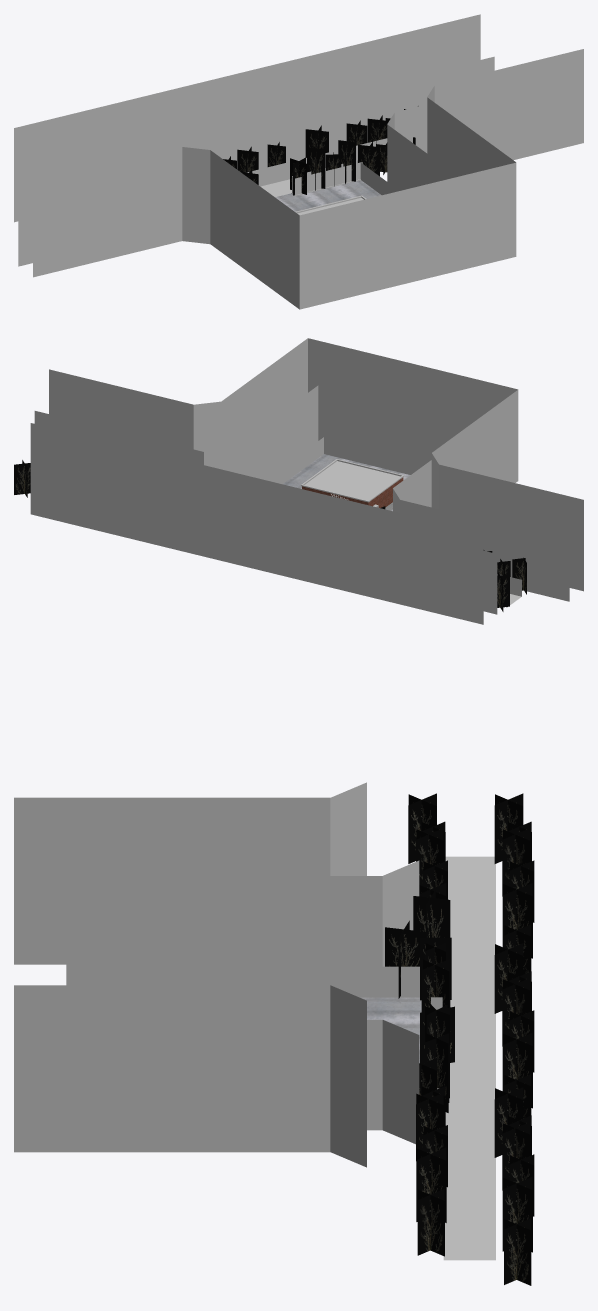
Rendered from Shop_VHS.fbx.
The picture shows the model from 3 angles, top to bottom: view 1: azimuth 30°, elevation 25°; view 2: azimuth 150°, elevation 25°; view 3: azimuth 270°, elevation 25°; orthographic projection. The views are drawn at different scales.
Parts seen in each view (by area): view 1: Vegetation_bottom, parking; view 2: Vegetation_bottom, Shop_VHS, parking; view 3: Vegetation_bottom, Road, parking.
Boxes of the visible parts, <box> form: Vegetation_bottom: <box>14,14,583,309</box>; parking: <box>275,180,381,211</box>; Vegetation_bottom: <box>14,338,583,624</box>; Shop_VHS: <box>301,459,404,507</box>; parking: <box>283,454,410,511</box>; Vegetation_bottom: <box>14,782,534,1285</box>; Road: <box>443,856,495,1260</box>; parking: <box>360,997,421,1063</box>.
Size of what is drawn, in the model's own units: 11758 by 2286 by 5943.
